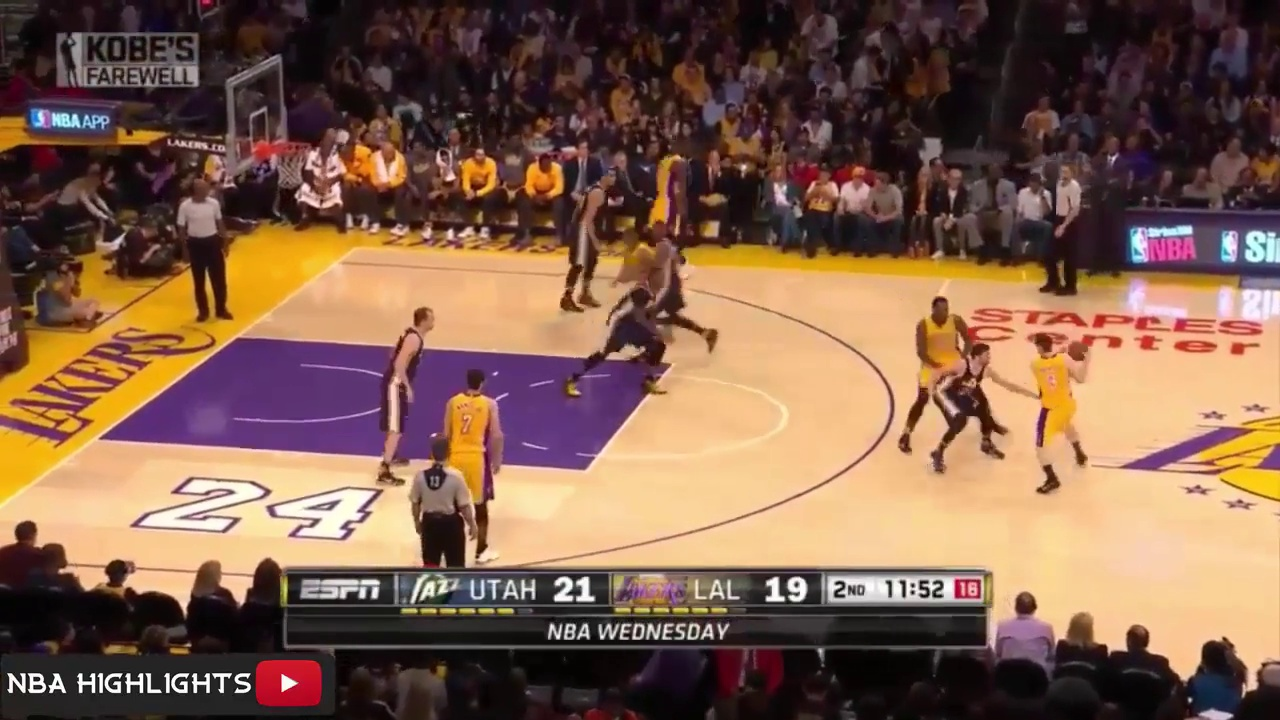jazz: (569, 267, 672, 395), (369, 305, 440, 486), (922, 340, 1012, 472), (556, 169, 625, 313), (652, 226, 718, 342)
lakers: (1026, 329, 1100, 494), (450, 366, 503, 556), (911, 286, 970, 455), (654, 135, 696, 277), (614, 222, 654, 291)
